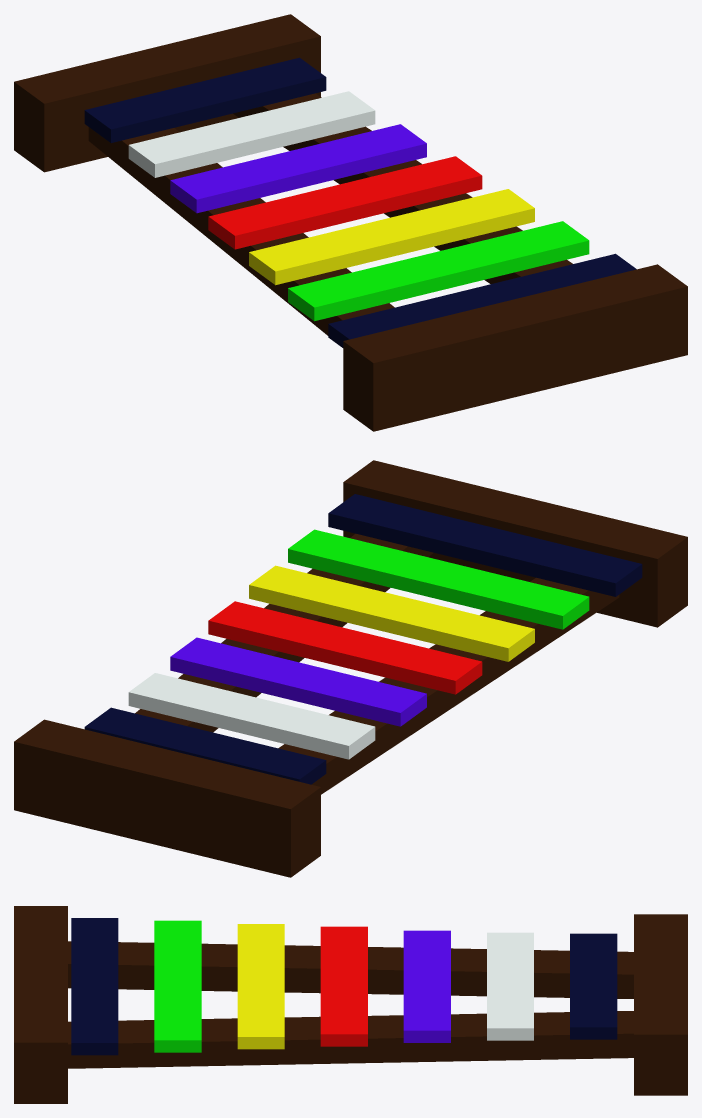
The model's file is Xylophone.fbx.
3 views of the same model, one above another, from view 1: azimuth 30°, elevation 25°; view 2: azimuth 150°, elevation 25°; view 3: azimuth 270°, elevation 25° (orthographic). The views are drawn at different scales.
Parts seen in each view (by area): view 1: Xylophone; view 2: Xylophone; view 3: Xylophone.
Part boxes in pixels (x1,y1,x2,y2): Xylophone: [14, 14, 687, 431]; Xylophone: [14, 460, 687, 877]; Xylophone: [14, 906, 687, 1103].
Bounding box in the file's own units: 39.6 × 8.25 × 82.5.
